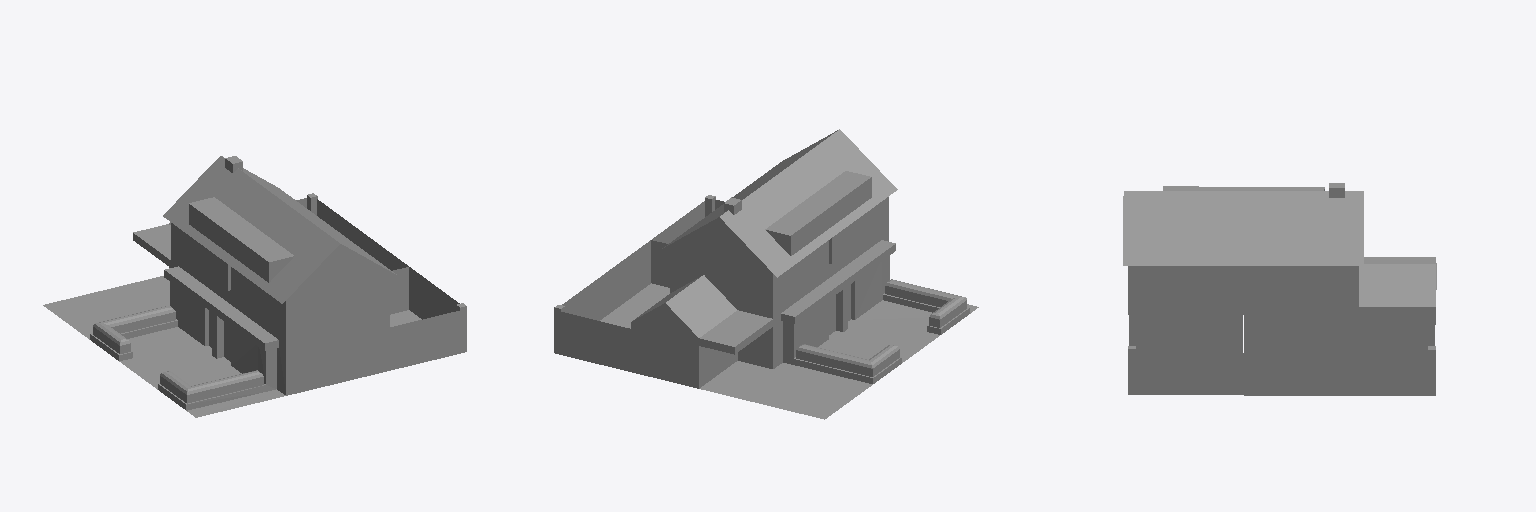
The model's file is House_row_1.obj.
The picture shows the model from 3 angles: view 1: azimuth 30°, elevation 25°; view 2: azimuth 150°, elevation 25°; view 3: azimuth 270°, elevation 25°; orthographic projection.
Visible parts, largest first — view 1: House_row_1_Plane.000; view 2: House_row_1_Plane.000; view 3: House_row_1_Plane.000.
Boxes of the visible parts, <box> form: House_row_1_Plane.000: <box>43,156,466,417</box>; House_row_1_Plane.000: <box>554,129,978,419</box>; House_row_1_Plane.000: <box>1123,183,1436,395</box>.
Size of the model in its own units: 1 by 0.52 by 1.